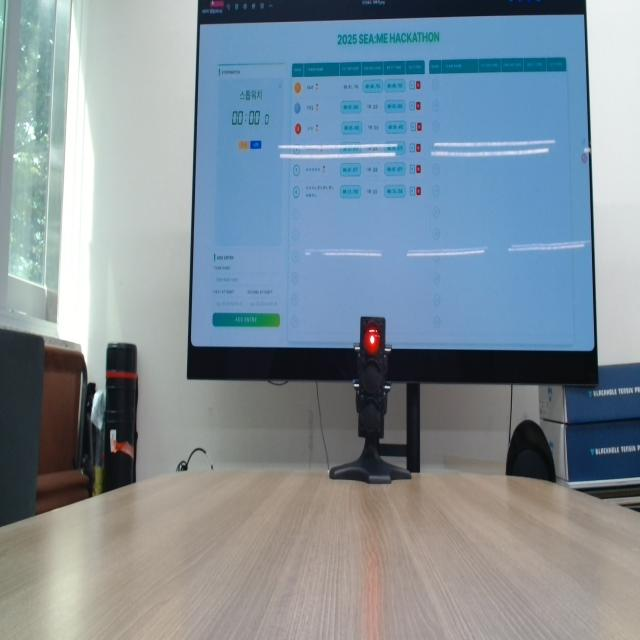red_light: (364, 322, 381, 356)
